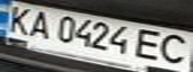0: (51, 14, 78, 45)
2: (90, 19, 112, 53)
4: (109, 23, 136, 57), (72, 17, 93, 48)
A: (24, 9, 57, 39)
C: (154, 32, 193, 66)
E: (130, 27, 169, 62)
K: (0, 3, 39, 35)
